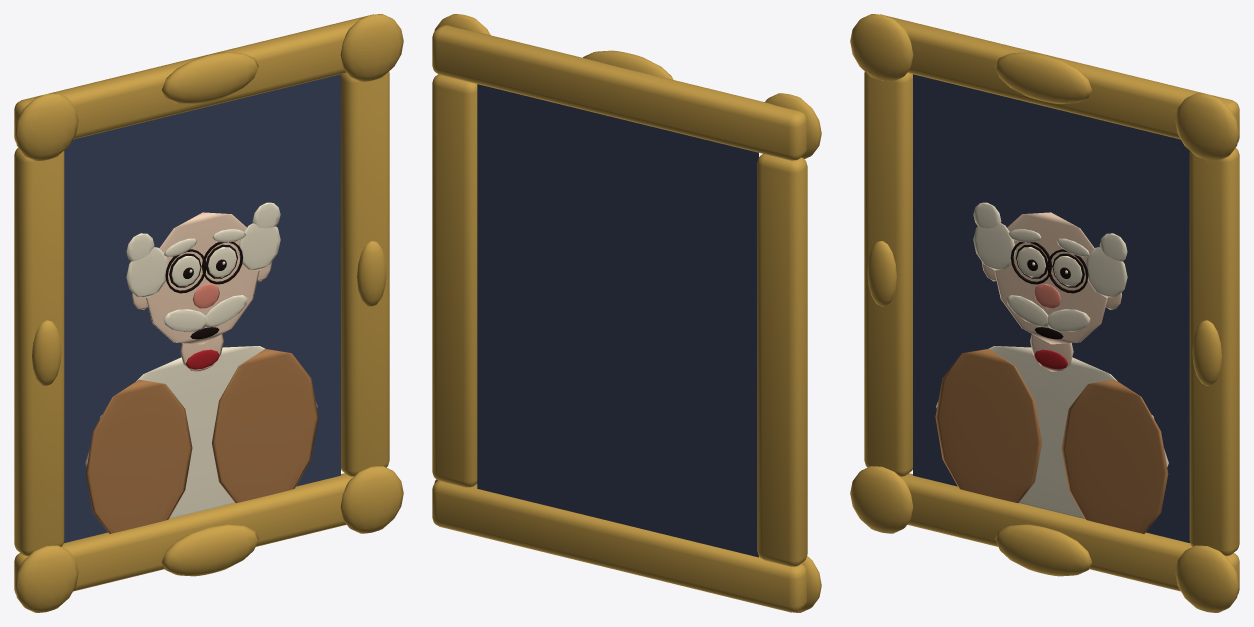
File: PR_PortraitGeppetto.fbx
3 views of the same model, side by side, from view 1: azimuth 30°, elevation 25°; view 2: azimuth 150°, elevation 25°; view 3: azimuth 330°, elevation 25° (orthographic).
Parts seen in each view (by area): view 1: PR_PortraitGeppetto_Gold, PR_PortraitGeppetto_CanvasBlue, PR_PortraitGeppetto_WoodLight, PR_PortraitGeppetto_Wax, PR_PortraitGeppetto_Peach, PR_PortraitGeppetto_Line; view 2: PR_PortraitGeppetto_CanvasBlue, PR_PortraitGeppetto_Gold; view 3: PR_PortraitGeppetto_Gold, PR_PortraitGeppetto_CanvasBlue, PR_PortraitGeppetto_WoodLight, PR_PortraitGeppetto_Wax, PR_PortraitGeppetto_Peach, PR_PortraitGeppetto_Line.
Boxes of the visible parts, x1,y1,x2,y2 form: PR_PortraitGeppetto_Gold: (14,14,403,612); PR_PortraitGeppetto_CanvasBlue: (63,74,340,542); PR_PortraitGeppetto_WoodLight: (85,349,318,533); PR_PortraitGeppetto_Wax: (85,202,317,518); PR_PortraitGeppetto_Peach: (132,212,272,371); PR_PortraitGeppetto_Line: (165,242,243,339); PR_PortraitGeppetto_CanvasBlue: (477,84,758,557); PR_PortraitGeppetto_Gold: (432,14,821,612); PR_PortraitGeppetto_Gold: (850,14,1239,612); PR_PortraitGeppetto_CanvasBlue: (913,74,1190,542); PR_PortraitGeppetto_WoodLight: (935,349,1168,533); PR_PortraitGeppetto_Wax: (936,202,1168,518); PR_PortraitGeppetto_Peach: (981,212,1121,371); PR_PortraitGeppetto_Line: (1010,242,1088,339).
Size of the model in its own units: 0.7967 by 1.02 by 0.077.
